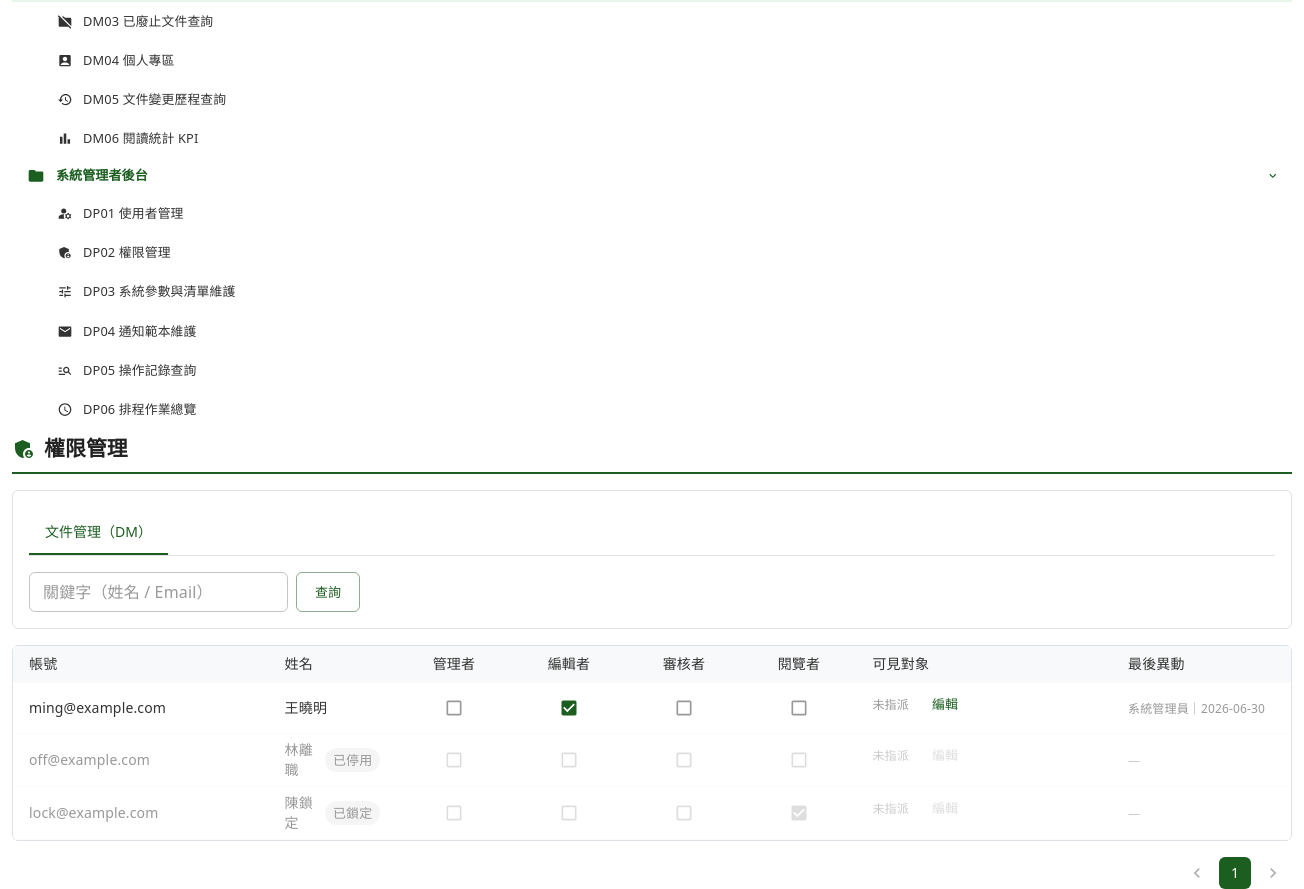
Test: Sidebar › #250 AC11：角色異動後側欄即時更新，不需重登
This screenshot has width=1304, height=889.
(page scrolled)
Check: the text "系統管理者後台" is shown, box [56,166,148,184]
What coordinates should you click on to do the following:
click the checkbox named "王曉明 管理者"
I would click on:
 (454, 708)
Its box is [444,698,464,718].
(page scrolled)
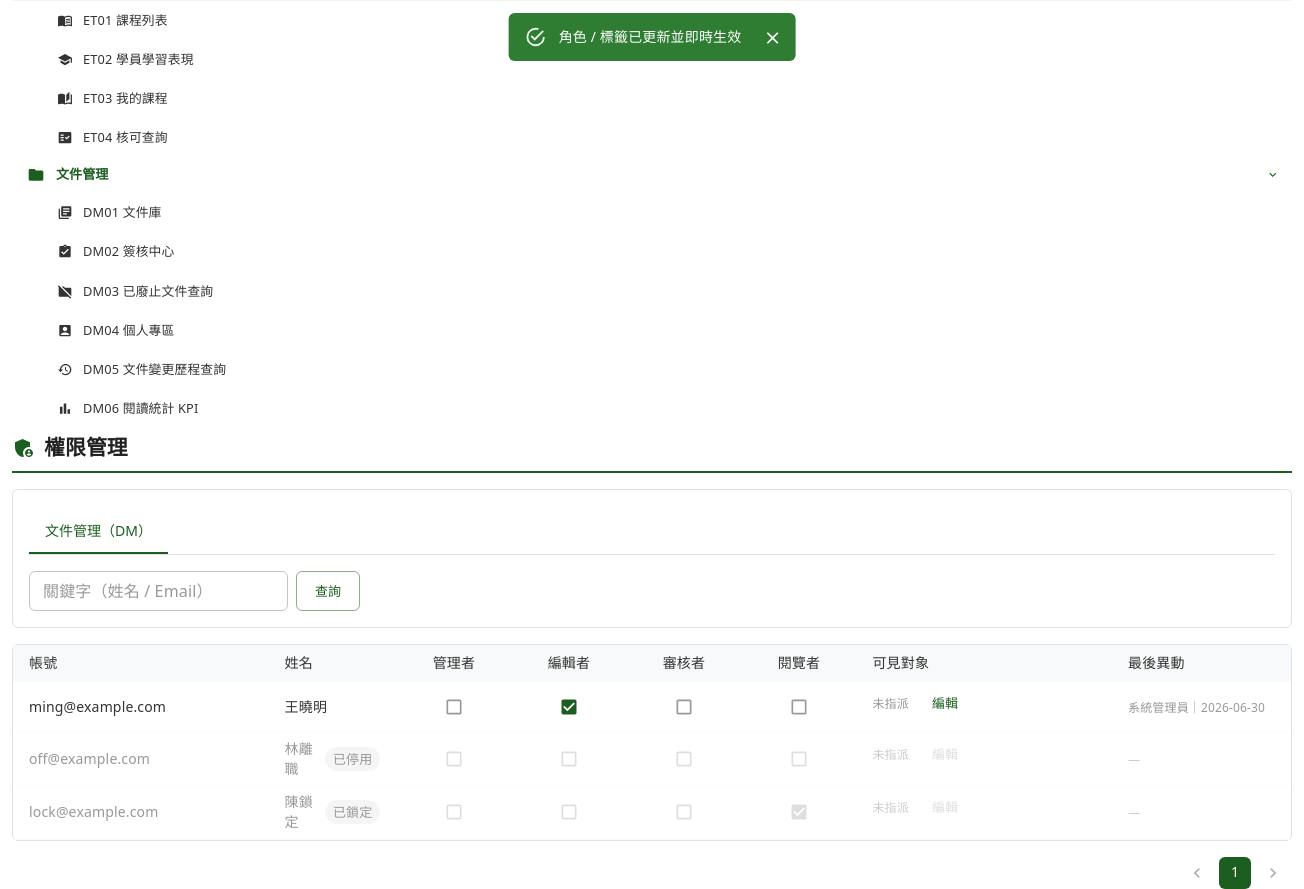
Check: the button "系統管理者後台" is gone
Check: the link "使用者管理" is gone
